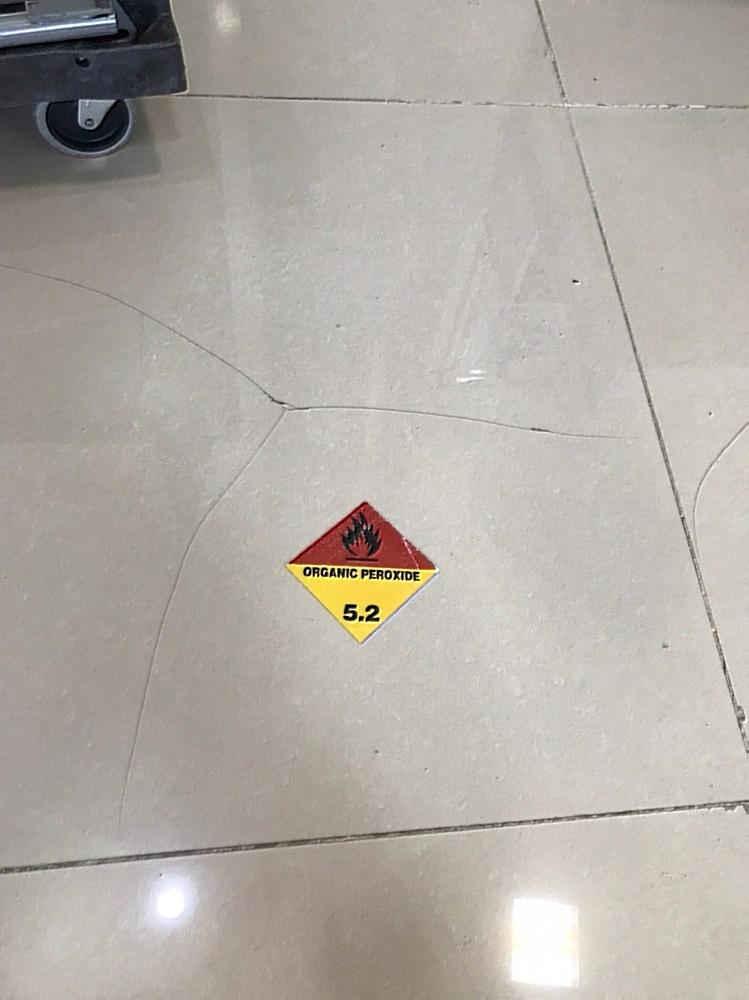organic-peroxide: (285, 505, 438, 644)
